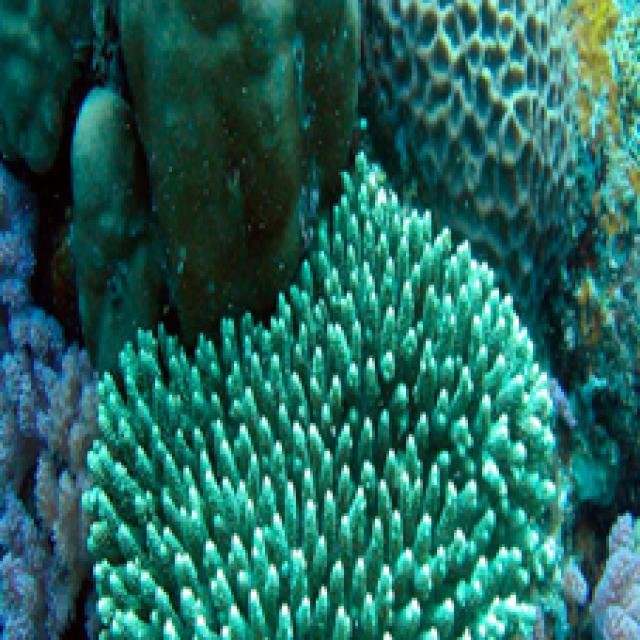Healthy: (83, 156, 593, 638), (122, 1, 356, 337), (373, 1, 593, 300), (1, 162, 94, 638), (568, 1, 638, 452), (74, 88, 159, 370), (593, 514, 638, 638)
